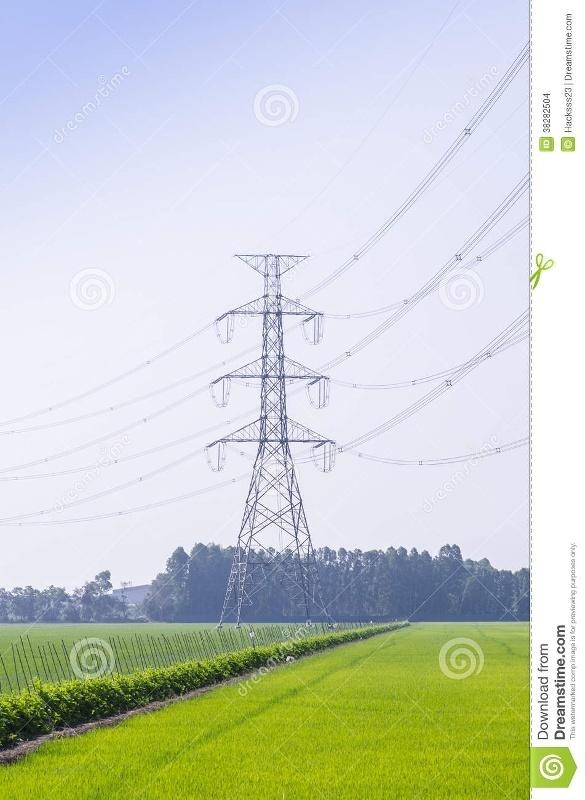power_tower: (203, 243, 350, 632)
